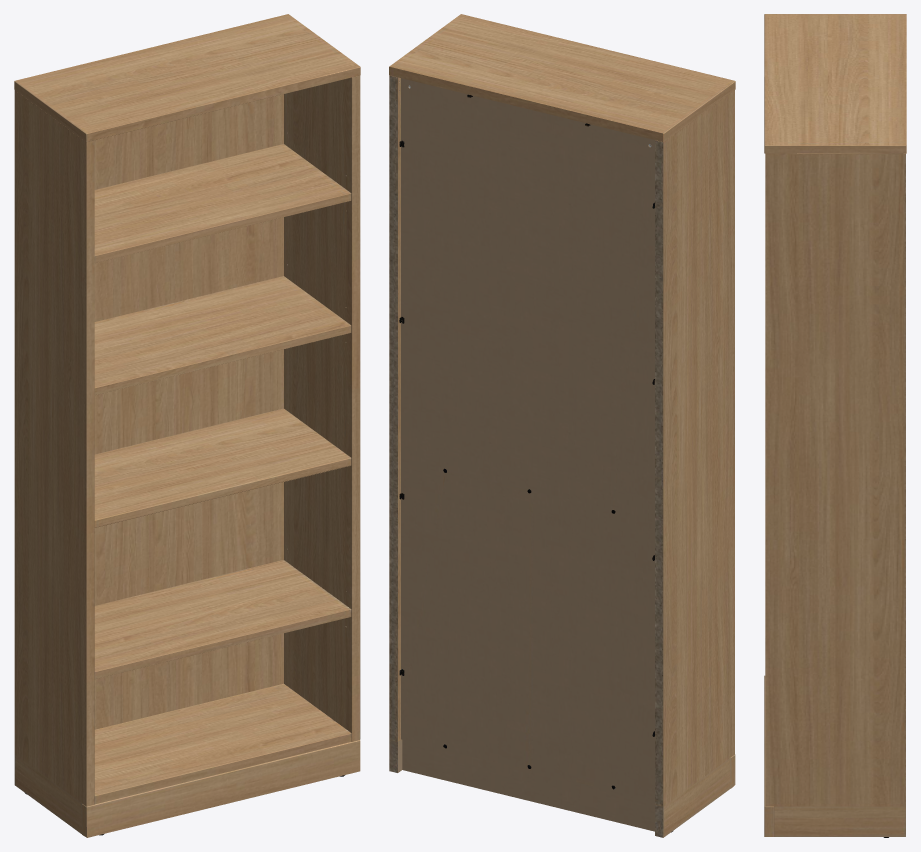
File: TONSTAD bookcase.glb
The picture shows the model from 3 angles, left to right: view 1: azimuth 30°, elevation 25°; view 2: azimuth 150°, elevation 25°; view 3: azimuth 270°, elevation 25°; orthographic projection.
Visible parts, largest first — view 1: 70528461-TONSTAD001; view 2: 70528461-TONSTAD001; view 3: 70528461-TONSTAD001.
Part boxes in pixels (box(x1,y1,x2,y2)): 70528461-TONSTAD001: box(14, 14, 360, 837); 70528461-TONSTAD001: box(389, 14, 735, 837); 70528461-TONSTAD001: box(764, 14, 906, 837).
Size of the model in its own units: 0.8169 by 2.01 by 0.3722.
1 material, 1 textured.
